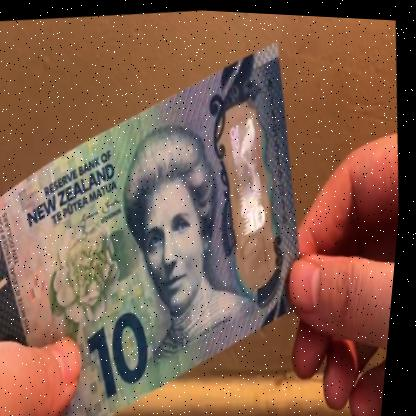10B: (220, 109, 286, 238)
